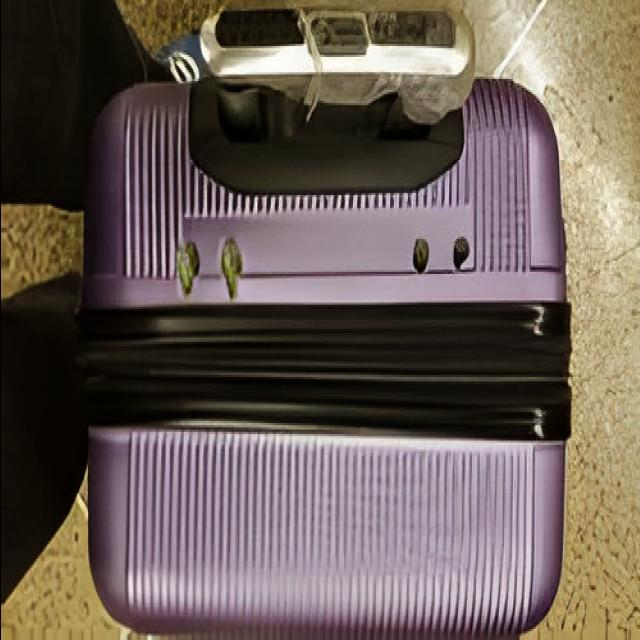Damage-bag: (220, 238, 242, 300), (176, 242, 199, 295), (411, 238, 429, 274), (452, 238, 469, 268)
